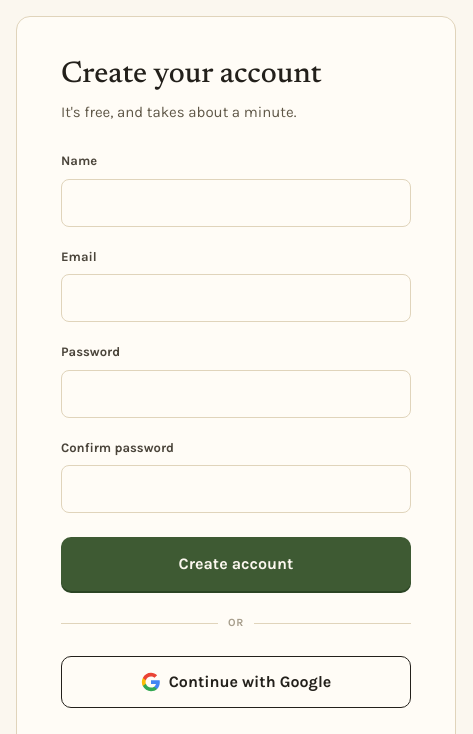
Test: links between the auth pages carry the typed email › from the already-registered banner to sign in
In the field labelled "Name": (236, 202) [61, 178, 411, 226], type "Jamie Alder"
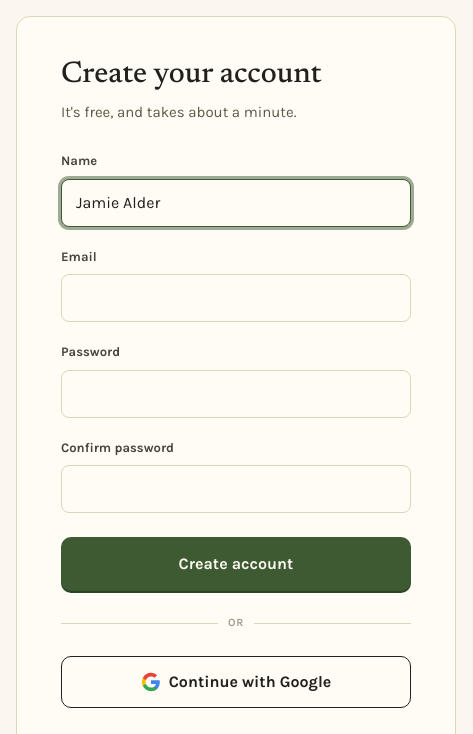
In the field labelled "Email": (236, 298) [61, 274, 411, 322], type "jamie@example.com"
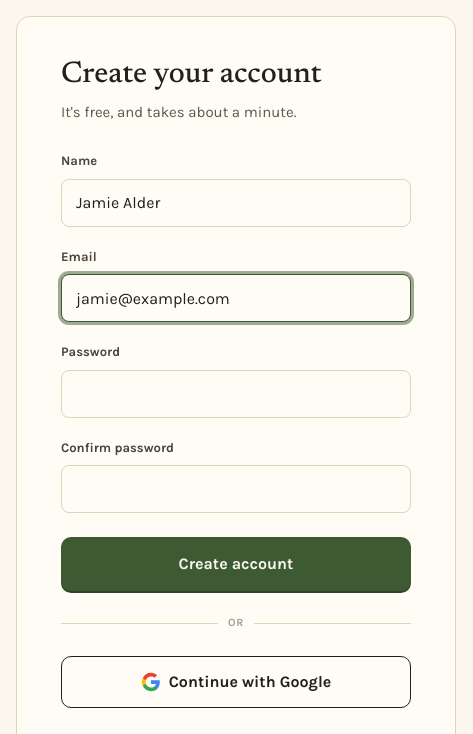
In the password field labelled "Password": (236, 394) [61, 370, 411, 418], type "correcthorse"
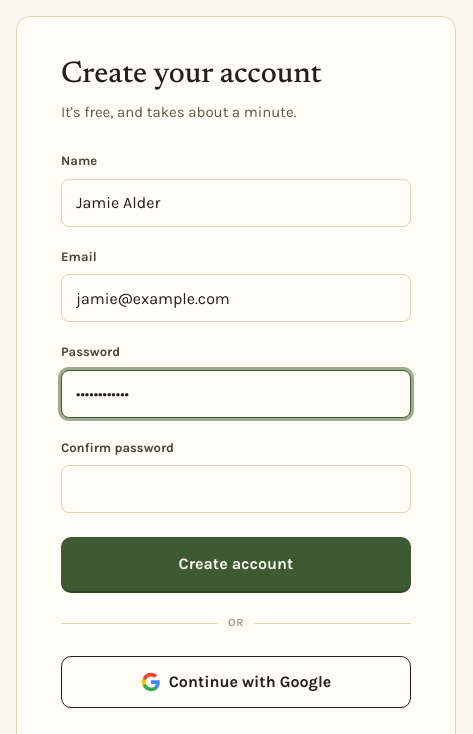
In the password field labelled "Confirm password": (236, 489) [61, 465, 411, 513], type "correcthorse"
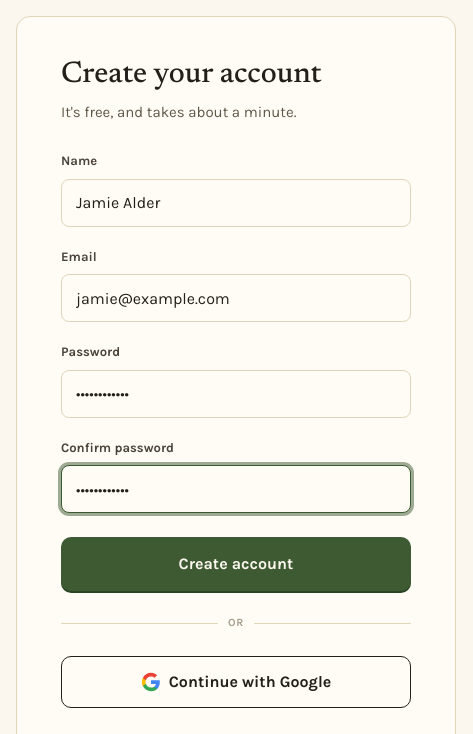
Click the button "Create account": (236, 564) [61, 537, 411, 591]
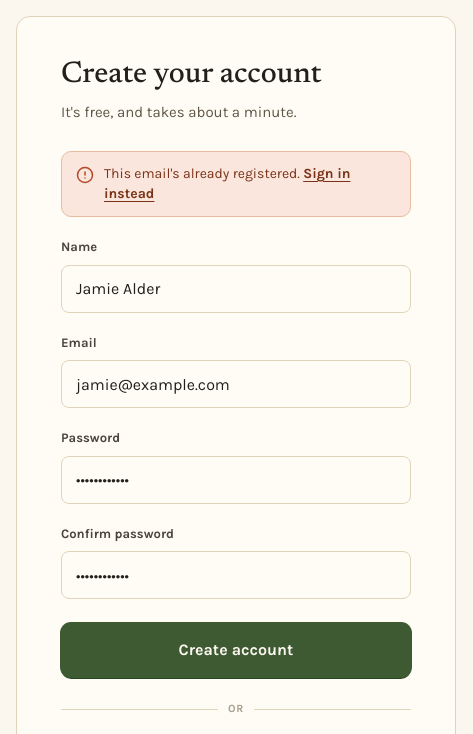
Click the link "Sign in instead": (327, 174) [104, 165, 350, 202]
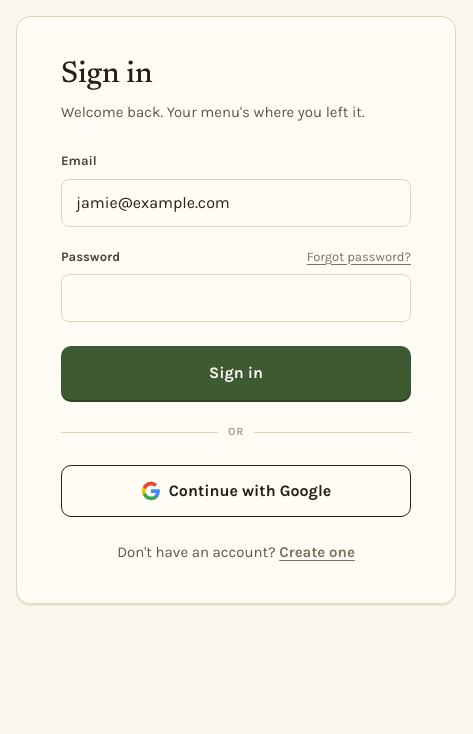
Result: the field labelled "Email" holds "jamie@example.com" at [61, 178, 411, 226]
